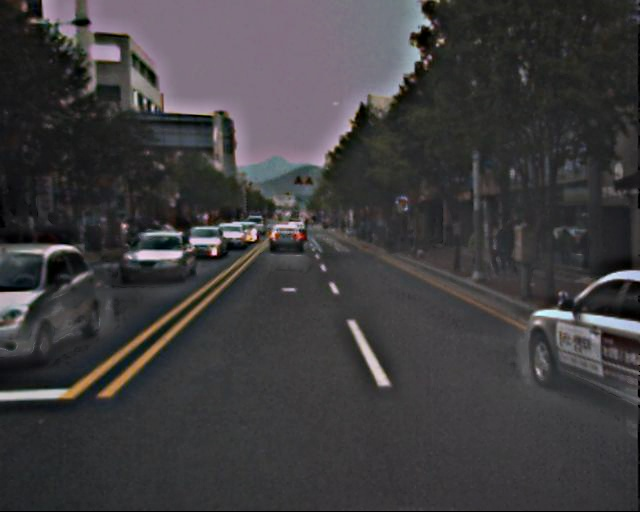person: (486, 219, 508, 272), (502, 219, 518, 259), (557, 227, 573, 267)
